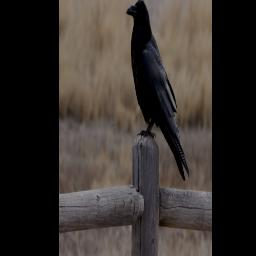Crow: (126, 0, 191, 184)
